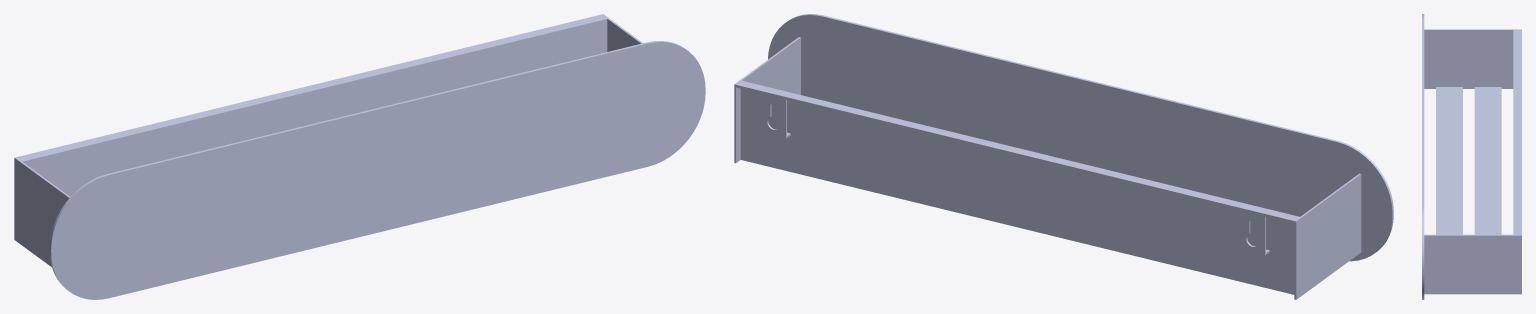
Rendered from round-mono.4c361b4785.glb.
3 views of the same model, side by side, from view 1: azimuth 30°, elevation 25°; view 2: azimuth 150°, elevation 25°; view 3: azimuth 270°, elevation 25° (orthographic). The views are drawn at different scales.
Parts seen in each view (by area): view 1: NAUO1; view 2: NAUO1; view 3: NAUO1.
Boxes of the visible parts, x1,y1,x2,y2 form: NAUO1: (14, 14, 705, 299); NAUO1: (734, 14, 1393, 299); NAUO1: (1422, 14, 1521, 299).
Size of the model in its own units: 0.5 by 0.09 by 0.092.
